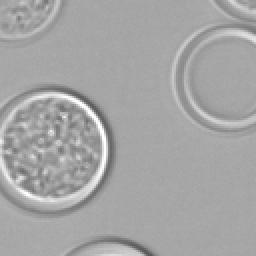picoshell: (2, 88, 110, 212), (170, 24, 254, 132), (64, 236, 152, 254), (214, 0, 254, 20)
